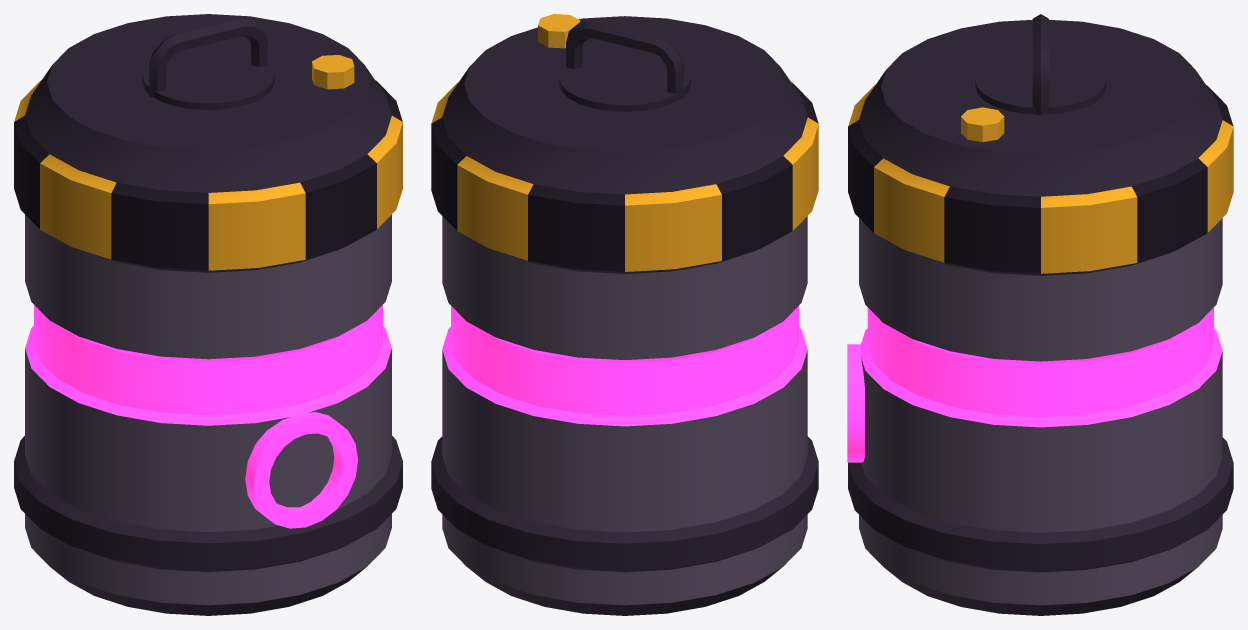
The model's file is barrel__lower.glb.
3 renders of one model, left to right at view 1: azimuth 30°, elevation 25°; view 2: azimuth 150°, elevation 25°; view 3: azimuth 270°, elevation 25°, orthographic.
Visible parts, largest first — view 1: Body; view 2: Body; view 3: Body.
Part boxes in pixels (left/top/right/bottom): Body: left=14, top=14, right=402, bottom=615; Body: left=431, top=14, right=818, bottom=615; Body: left=847, top=14, right=1233, bottom=615.
Size of the model in its own units: 0.53 by 0.7829 by 0.531.
